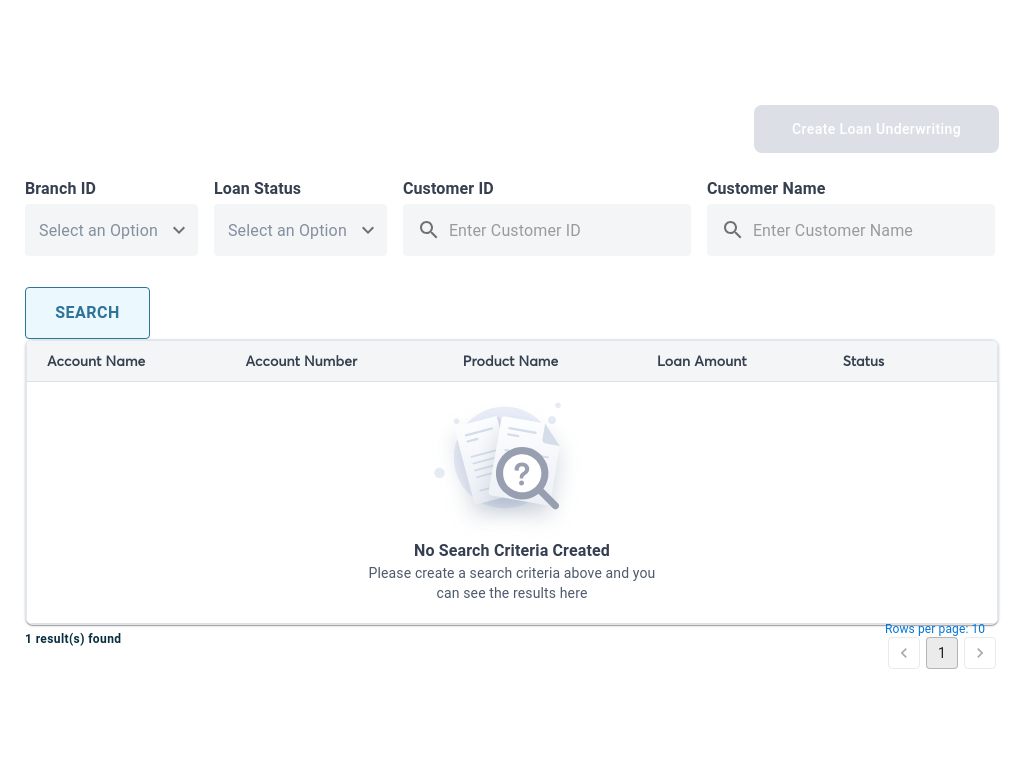
Loan Directory component › renders table with loan data and branches
The width and height of the screenshot is (1024, 768).
Expected: the button "Create Loan Underwriting" is shown, left=754, top=105, right=999, bottom=153
Note: Trigger search to display data
Click the button "Search": (88, 313) left=25, top=287, right=150, bottom=339
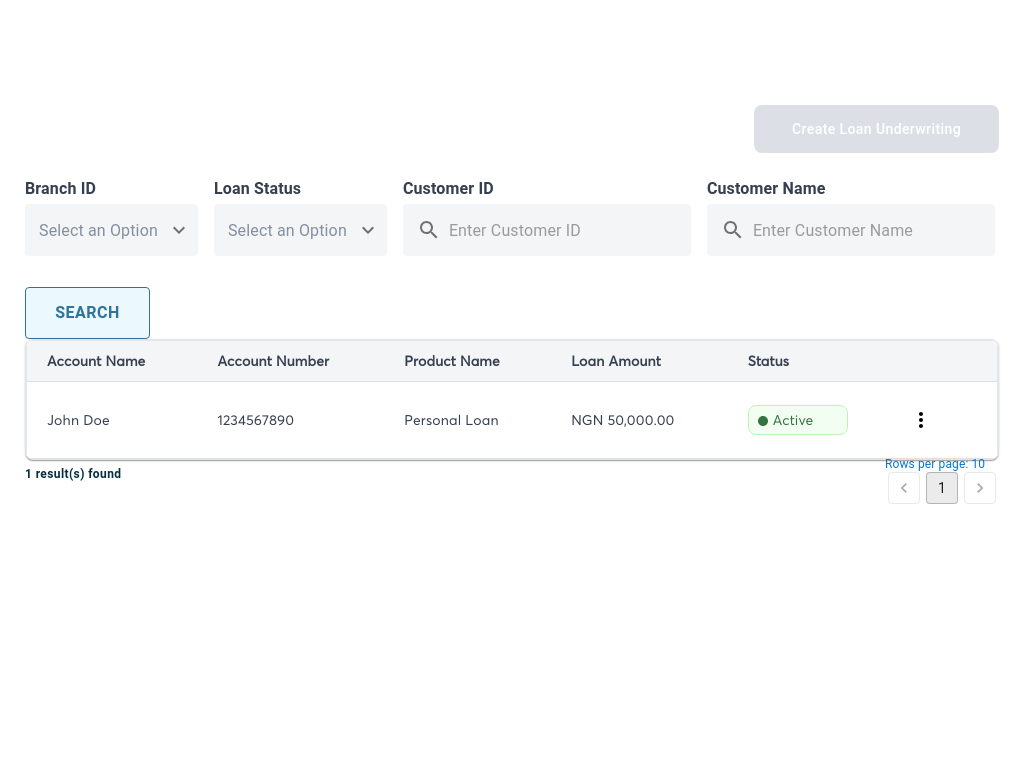
Now the column heading "John Doe" is shown, box left=26, top=382, right=198, bottom=458
Now the text "1234567890" is shown, box left=198, top=382, right=384, bottom=458
Now the column heading "Personal Loan" is shown, box left=384, top=382, right=551, bottom=458
